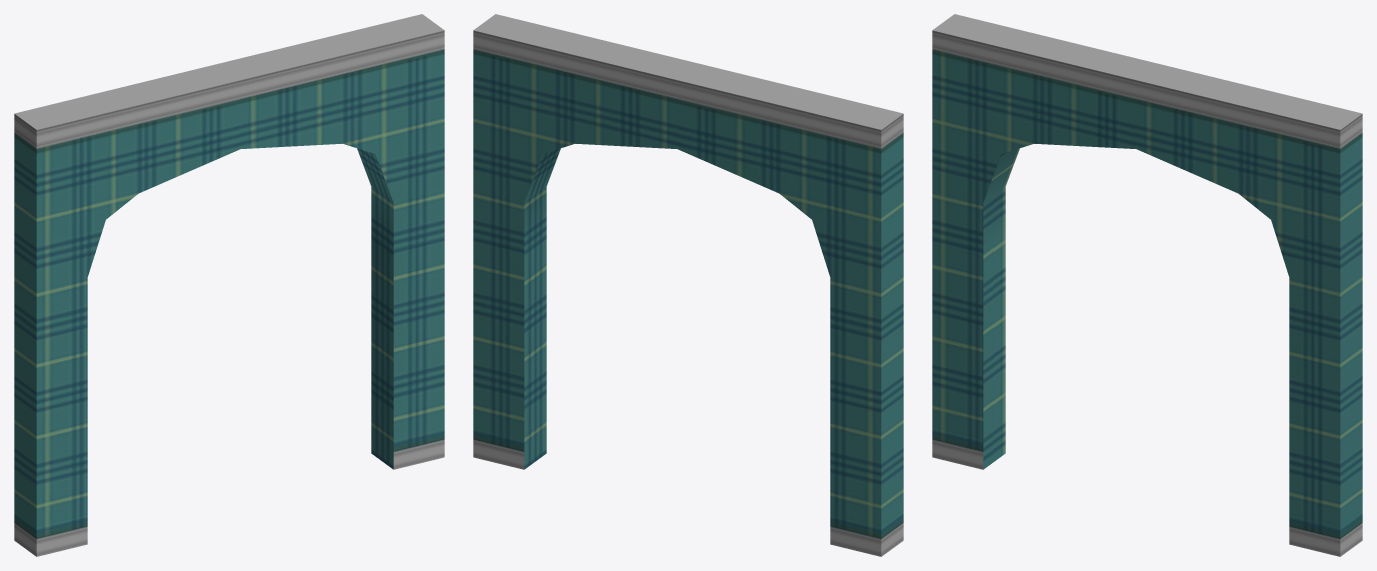
Rendered from wall_archway2.fbx.
The picture shows the model from 3 angles, left to right: view 1: azimuth 30°, elevation 25°; view 2: azimuth 150°, elevation 25°; view 3: azimuth 330°, elevation 25°; orthographic projection.
Parts seen in each view (by area): view 1: wall_archway2; view 2: wall_archway2; view 3: wall_archway2.
Part boxes in pixels (bbox=[...]): wall_archway2: bbox=[14, 14, 444, 556]; wall_archway2: bbox=[473, 14, 903, 556]; wall_archway2: bbox=[932, 14, 1362, 556].
Size of the model in its own units: 400 by 400 by 38.
Materials: 1 (1 with a texture image).
